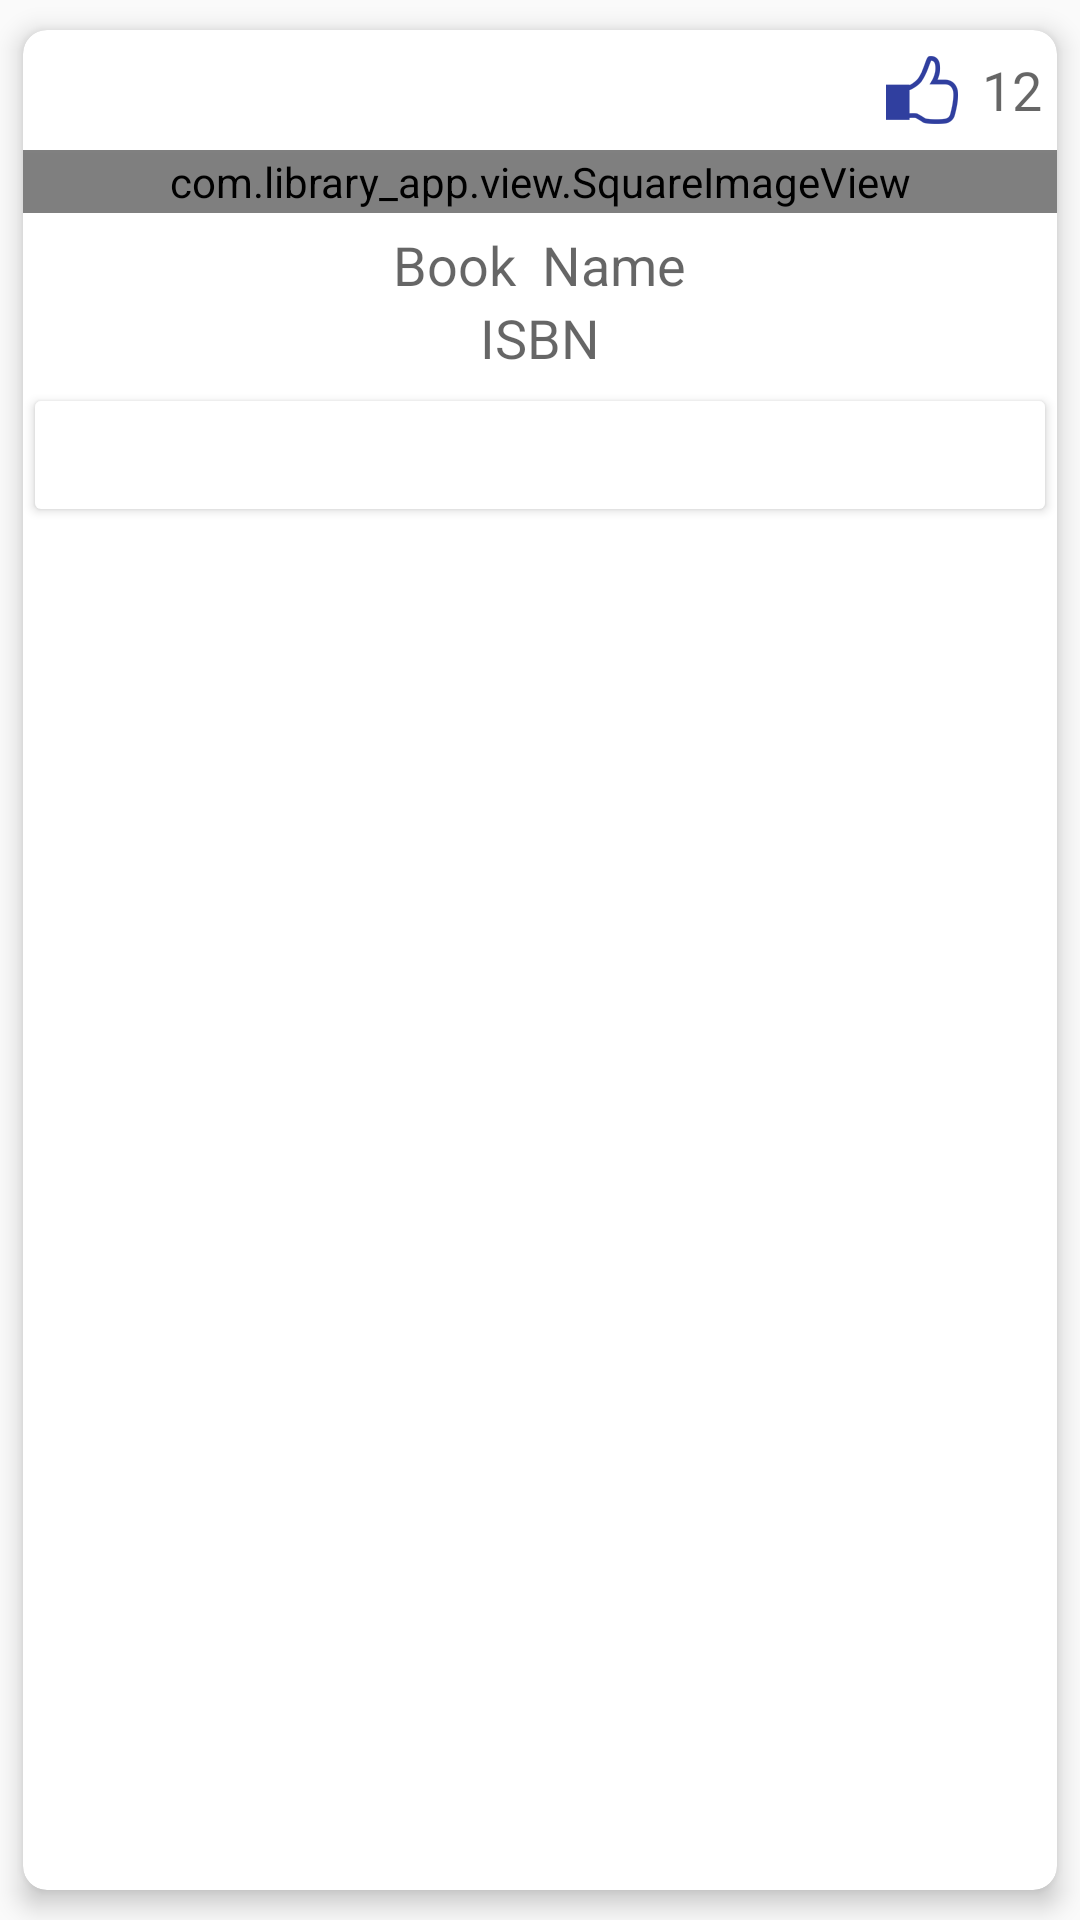

Named icons in this screenshot (1080px×1920px) and their bounding boxes, (x1, y1, x2, y2):
upvote: (886, 56, 958, 124)
